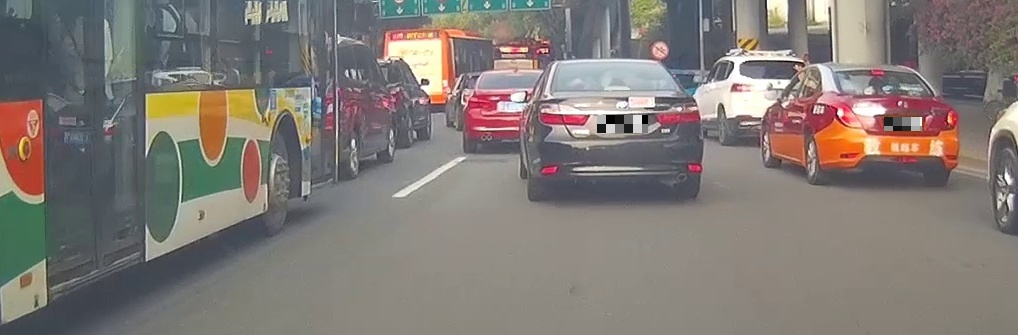L_light: (538, 103, 590, 125), (827, 102, 862, 128)
R_light: (656, 103, 700, 126), (940, 107, 959, 131)
T_light: (605, 86, 630, 91), (871, 69, 884, 75)
day-brake: (824, 63, 960, 184)
day-no: (529, 59, 704, 198)
plate_1: (597, 115, 648, 133)
plate_2: (884, 117, 922, 131)
